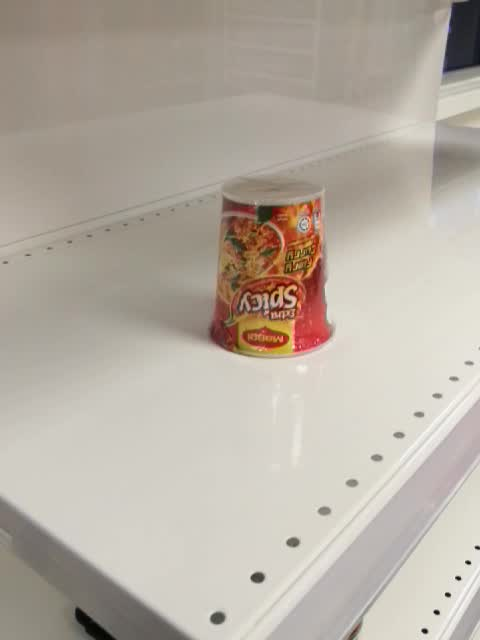maggi: (207, 174, 337, 360)
